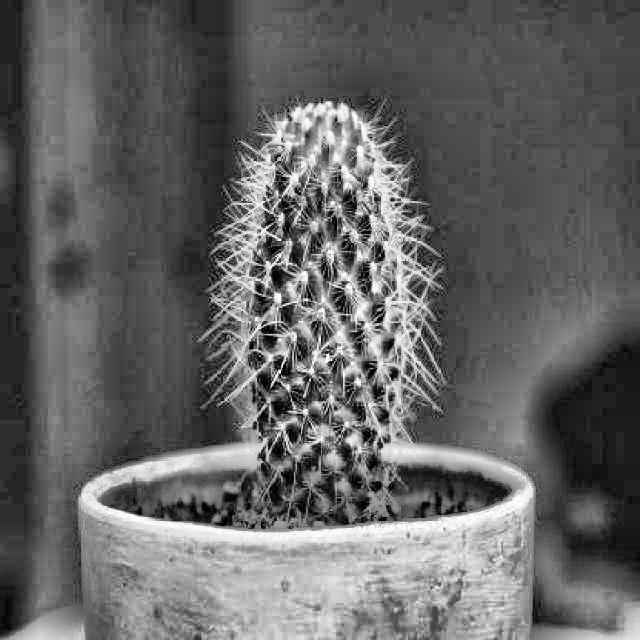plants: (80, 86, 536, 640)
